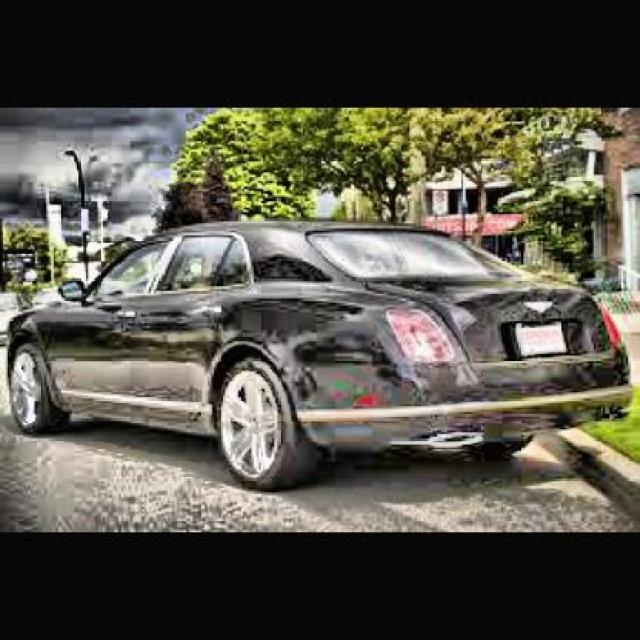black: (23, 215, 640, 440)
